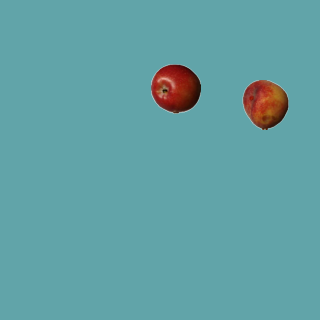Apple Braeburn: (150, 63, 200, 113)
Peach: (240, 79, 290, 129)
